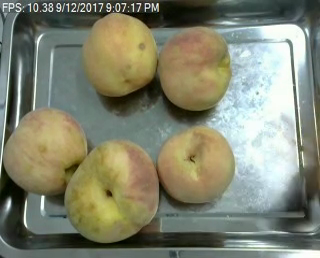Peach: (64, 140, 160, 242), (1, 106, 86, 198), (81, 14, 156, 97), (156, 124, 235, 202), (157, 25, 228, 109)
